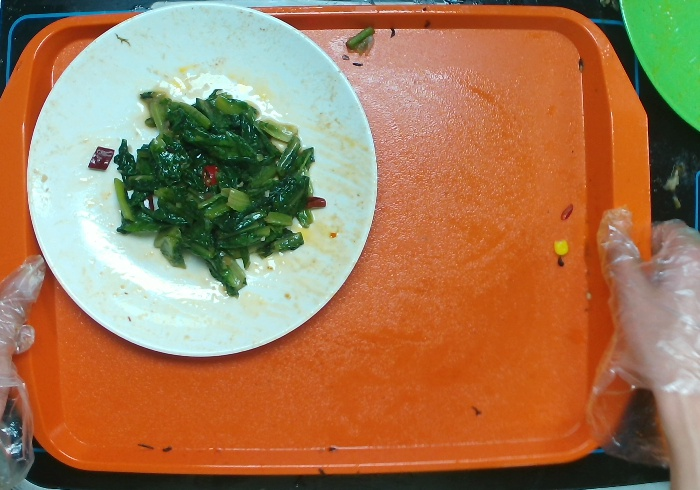HZYJPL-Bai_Se_Yuan_Pan: (25, 1, 380, 360)
